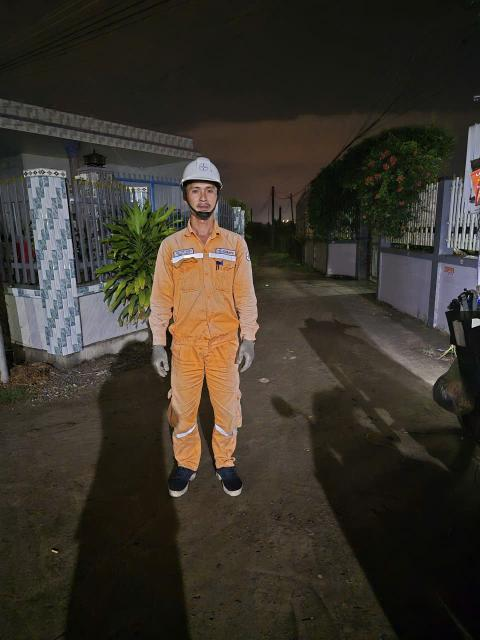gloves: (228, 334, 260, 373), (150, 345, 175, 379)
helmet: (178, 154, 225, 187)
shoes: (163, 463, 197, 498), (212, 466, 246, 500)
